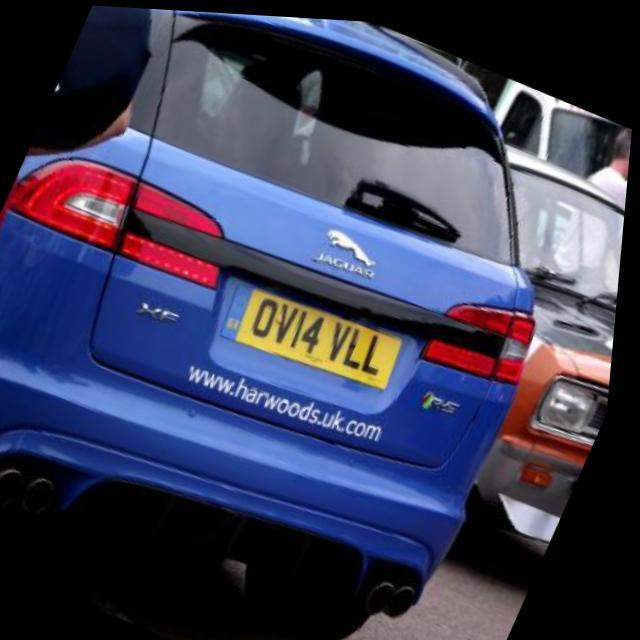license_plate: (218, 268, 416, 398)
